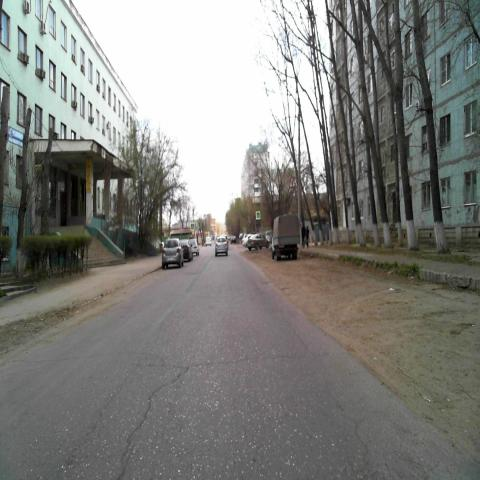5_19_1: (255, 210, 260, 220), (190, 222, 195, 230)
